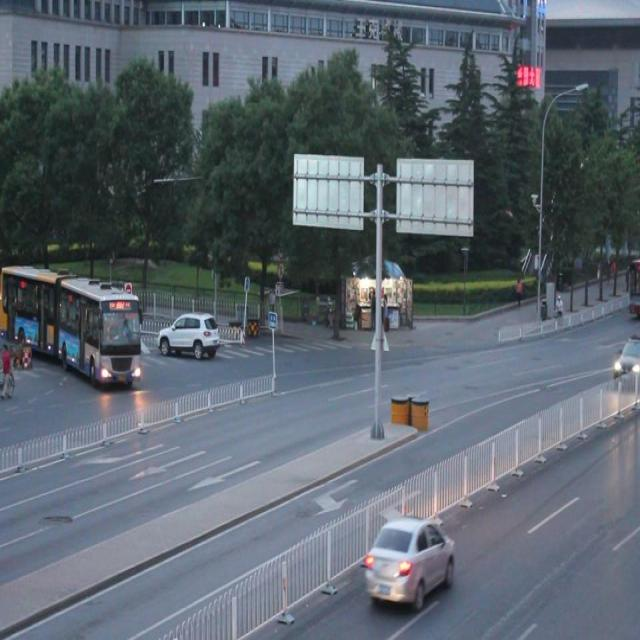car: (366, 513, 454, 607), (158, 310, 220, 362)
van: (1, 262, 142, 387)
